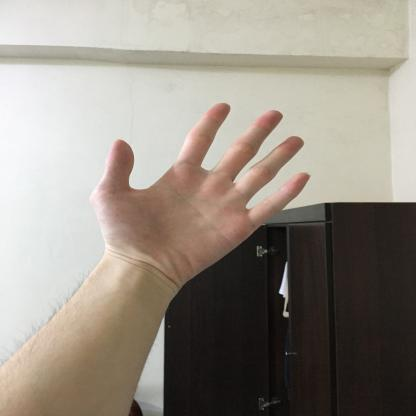bare_hand: (84, 91, 316, 300)
